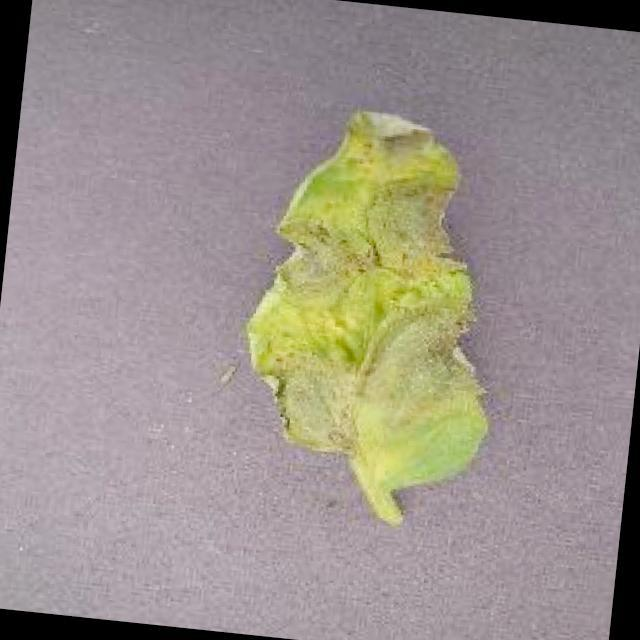Tomato late blight leaf: (228, 99, 520, 498)
